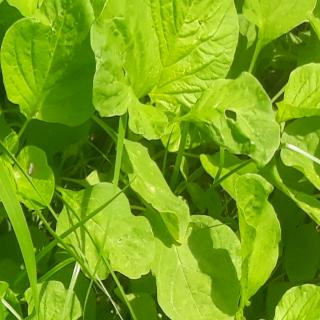virus_keriting: (0, 0, 107, 131), (0, 139, 9, 241)
